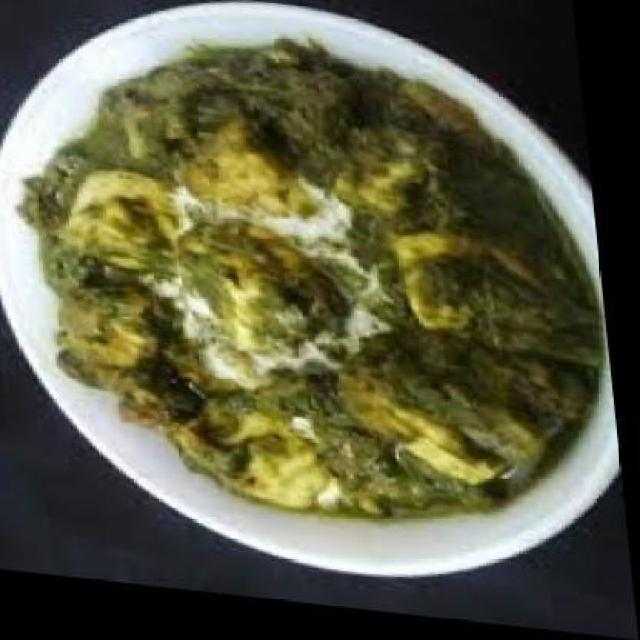palak_paneer: (9, 20, 629, 548)
